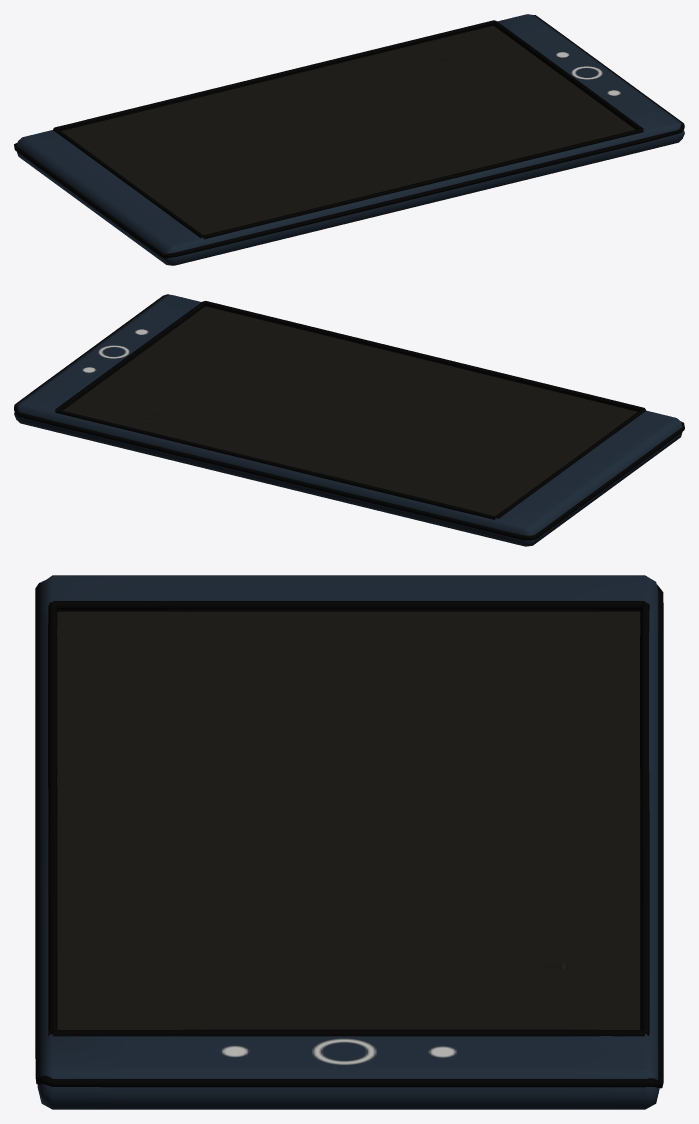
Rendered from Phone.fbx.
3 views of the same model, one above another, from view 1: azimuth 30°, elevation 25°; view 2: azimuth 150°, elevation 25°; view 3: azimuth 270°, elevation 25° (orthographic). The views are drawn at different scales.
Parts seen in each view (by area): view 1: phone, Main; view 2: phone, Main; view 3: phone, Main.
Part boxes in pixels (<box>): phone: <box>16,14,684,265</box>; Main: <box>14,15,684,258</box>; phone: <box>14,295,682,546</box>; Main: <box>14,294,684,540</box>; phone: <box>37,575,659,1109</box>; Main: <box>35,582,663,1088</box>.
Size of the model in its own units: 2.74 by 0.1628 by 1.43.
